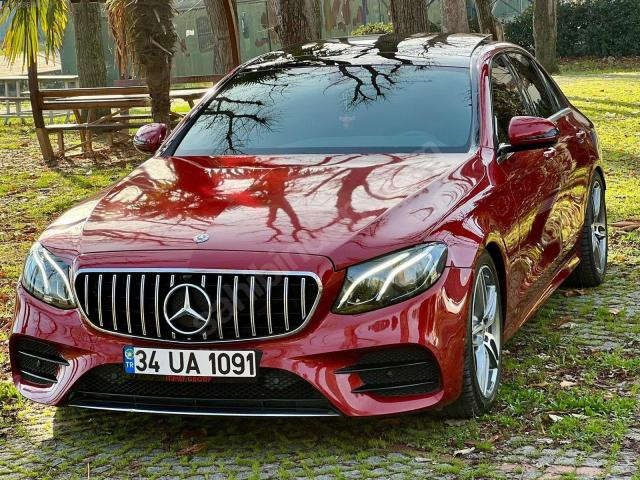plaka: (129, 347, 257, 378)
